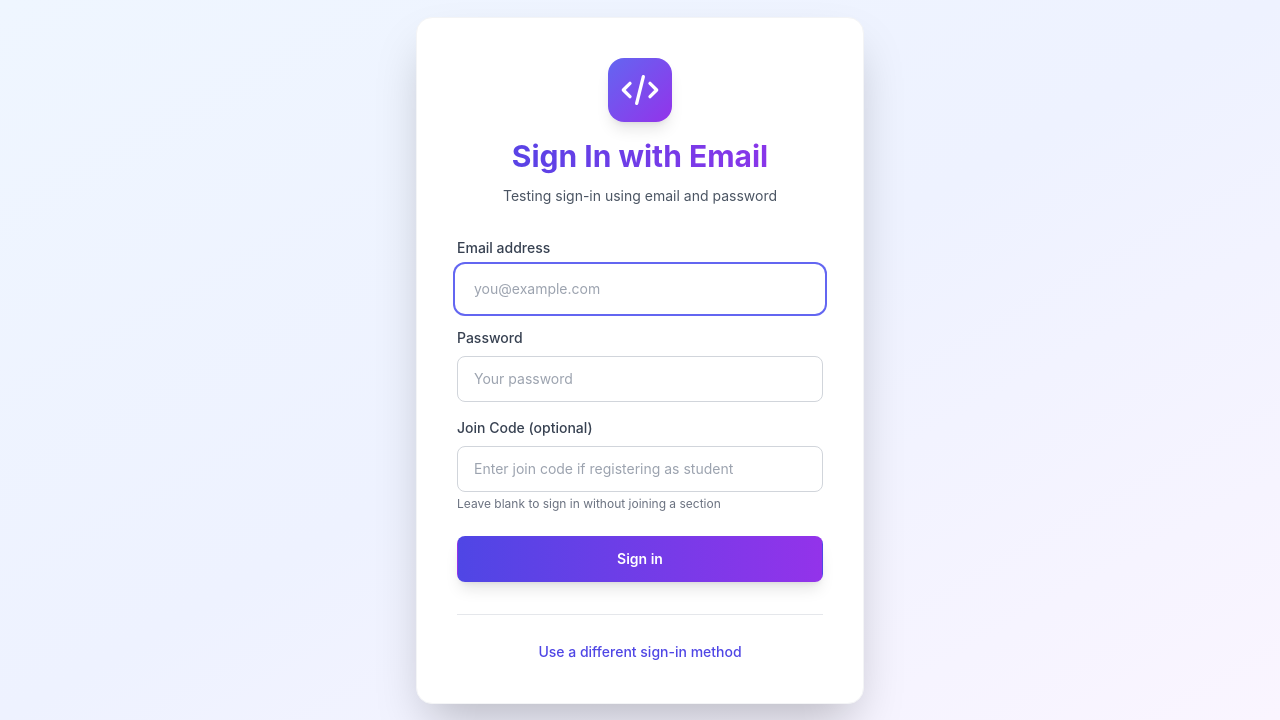
Test case: EmailSignInPage › Error Handling › shows error for invalid credentials
In the field labelled "Email address": (640, 288) [457,266,823,312], type "test@example.com"
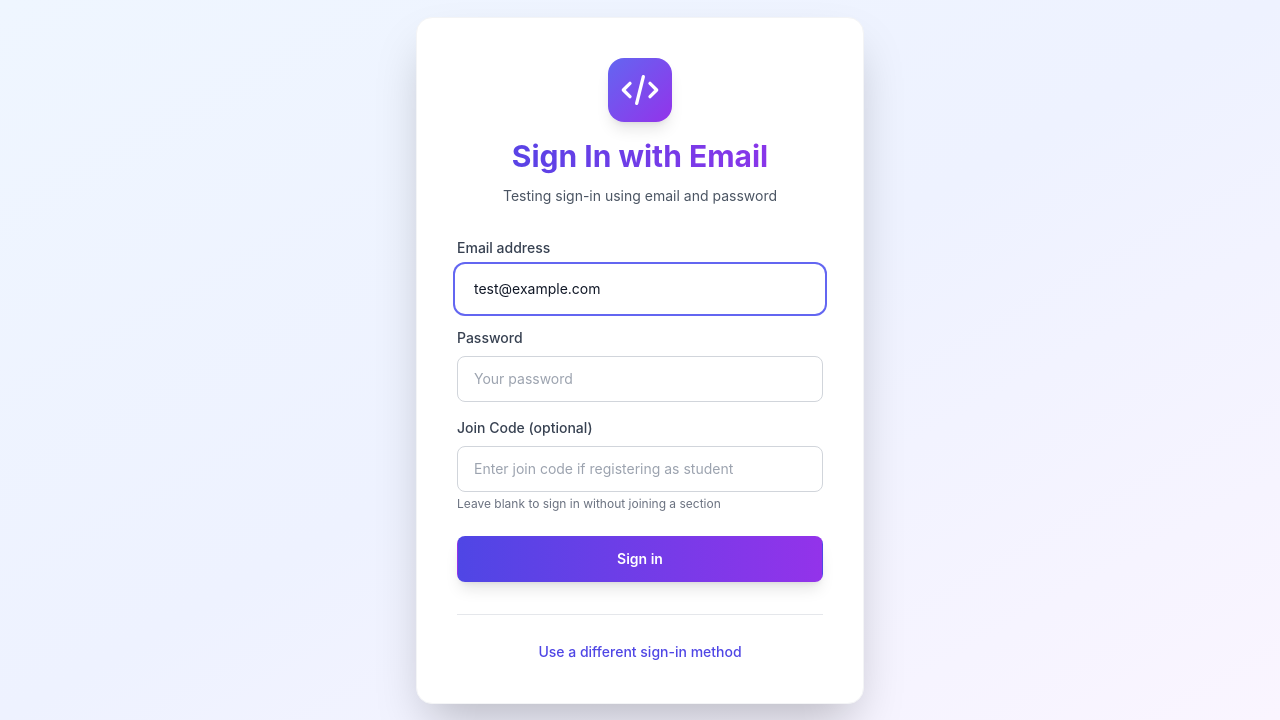
In the password field labelled "Password": (640, 378) [457,356,823,402], type "wrongpassword"
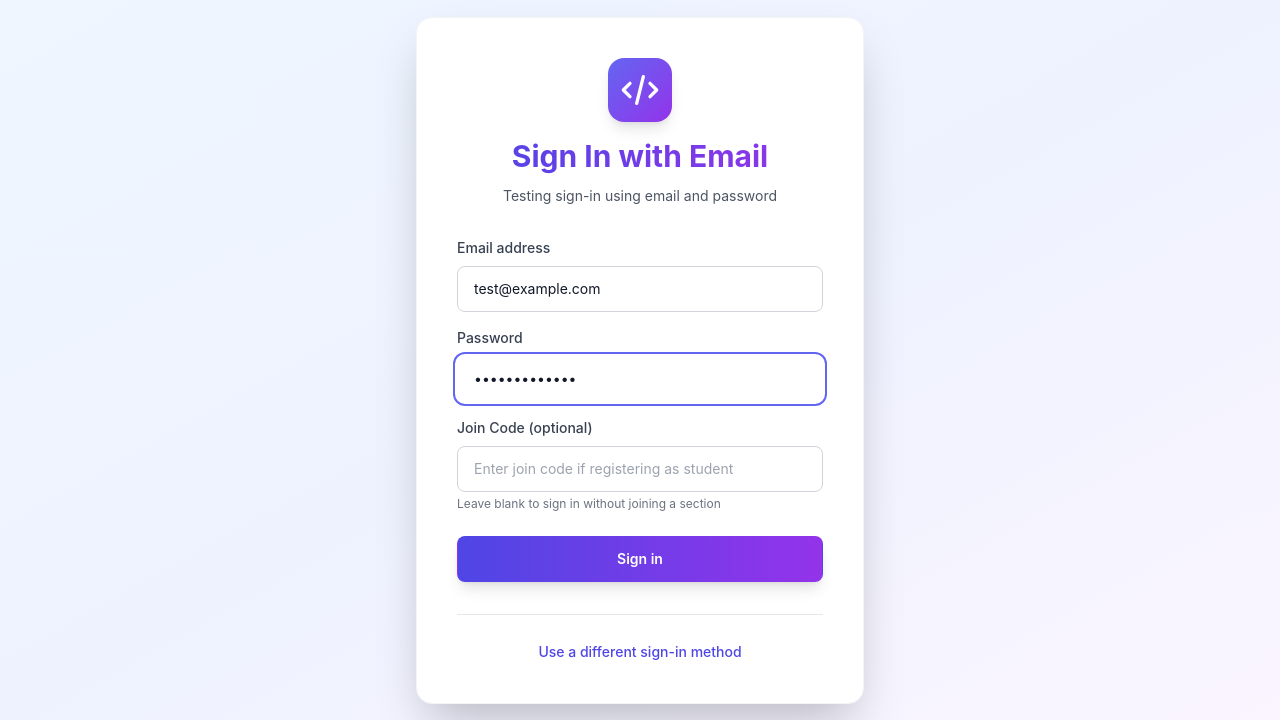
Click the button "Sign in": (640, 558) [457,536,823,582]
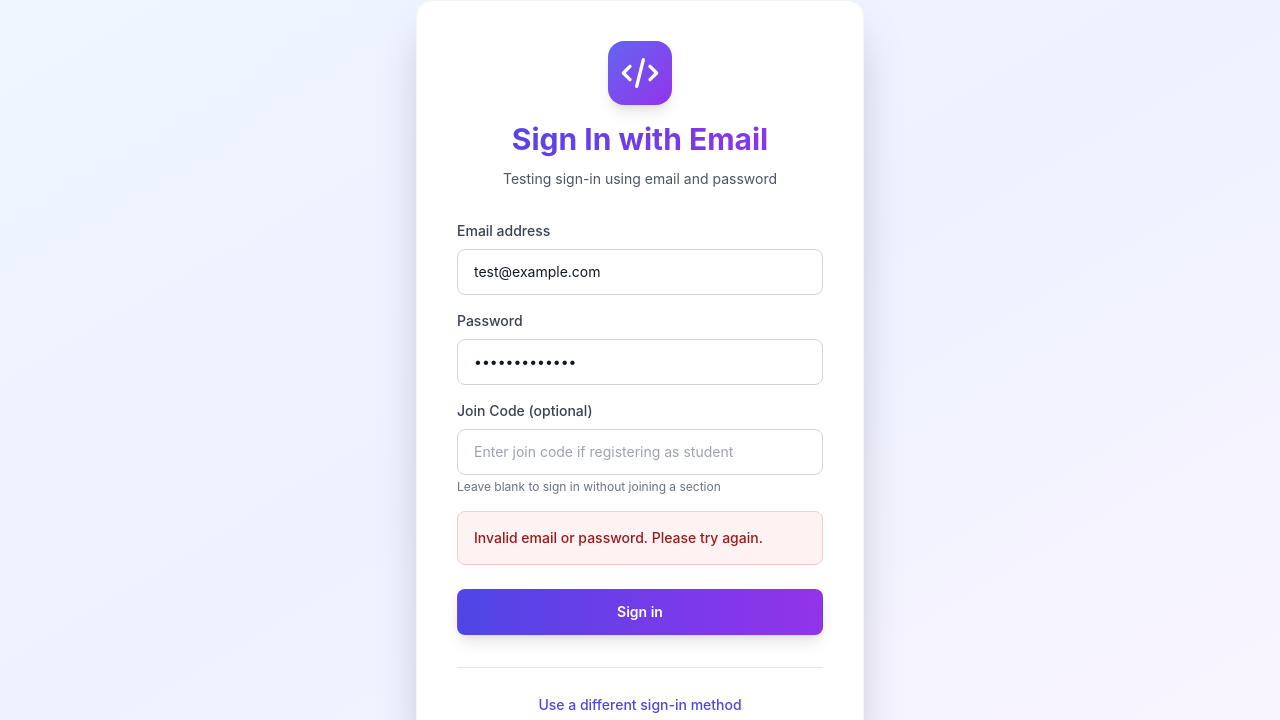
Now the text "Invalid email or password. Please try again." is shown, box [474,528,806,548]
